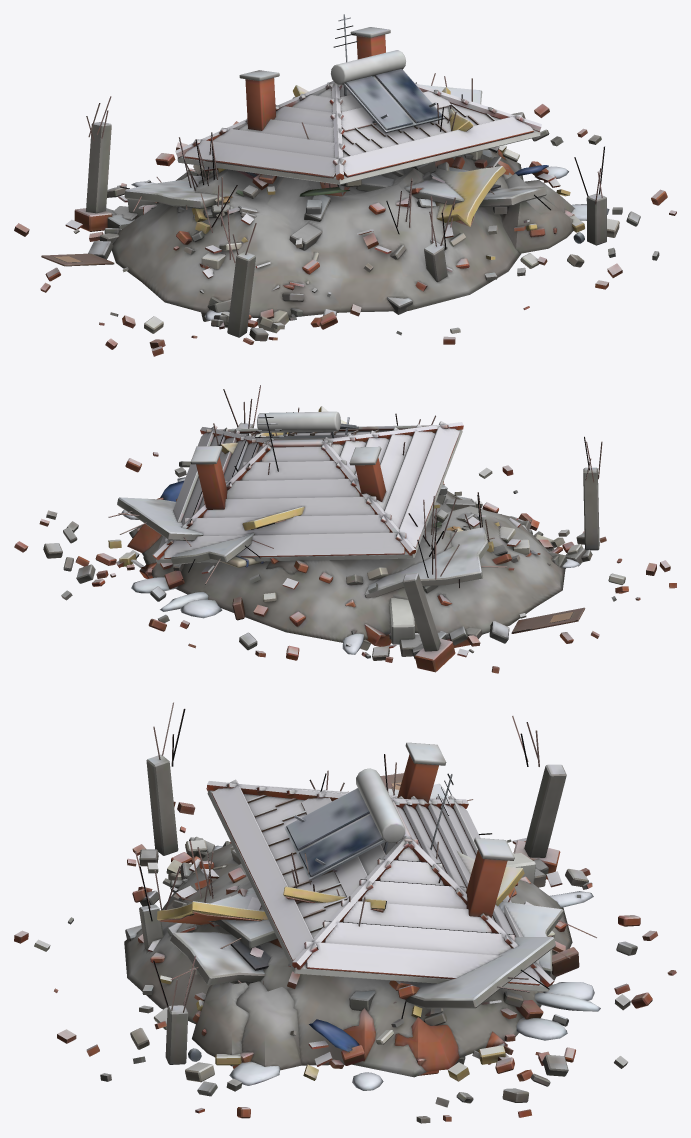
File: bld_rubble_lot.glb
3 views of the same model, one above another, from view 1: azimuth 30°, elevation 25°; view 2: azimuth 150°, elevation 25°; view 3: azimuth 270°, elevation 25° (orthographic). The views are drawn at different scales.
Parts seen in each view (by area): view 1: bld_rubble_lot; view 2: bld_rubble_lot; view 3: bld_rubble_lot.
Part boxes in pixels (left/top/right/bottom): bld_rubble_lot: left=14, top=14, right=676, bottom=356; bld_rubble_lot: left=14, top=385, right=676, bottom=673; bld_rubble_lot: left=14, top=702, right=676, bottom=1123.
Size of the model in its own units: 17.63 by 5.57 by 14.64.
1 material, 1 textured.
